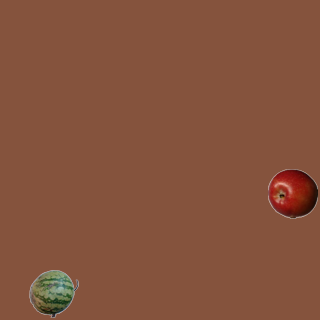Apple Braeburn: (267, 168, 317, 218)
Watermelon: (28, 268, 78, 318)
